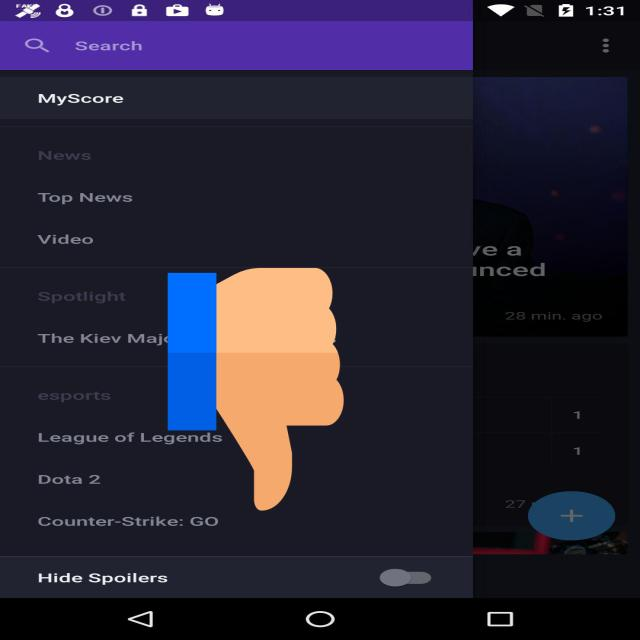obstruction: (168, 262, 344, 517)
